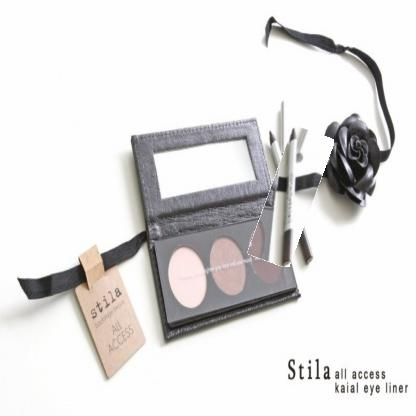Pen: (258, 127, 324, 266)
